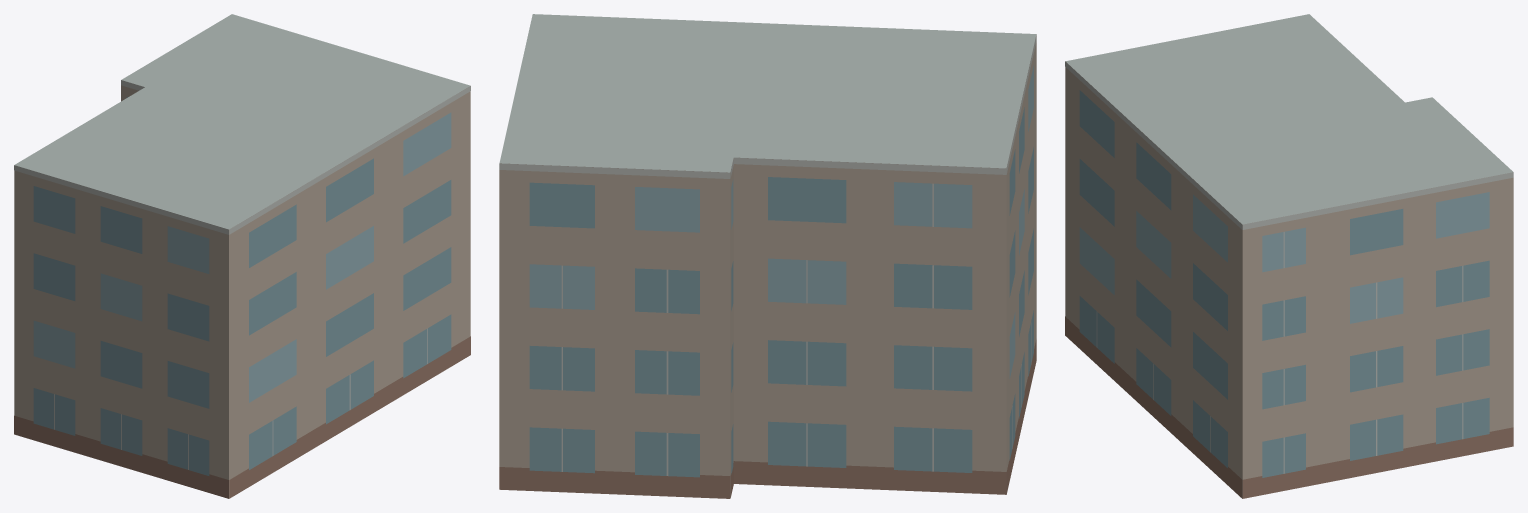
The model's file is residential-628e0a71-69cc-4b9c-8d45-5c92925a2f30.glb.
3 views of the same model, side by side, from view 1: azimuth 30°, elevation 25°; view 2: azimuth 150°, elevation 25°; view 3: azimuth 270°, elevation 25° (orthographic). The views are drawn at different scales.
Visible parts, largest first — view 1: residential-628e0a71-69cc-4b9c-8d45-5c92925a2f30.tmp; view 2: residential-628e0a71-69cc-4b9c-8d45-5c92925a2f30.tmp; view 3: residential-628e0a71-69cc-4b9c-8d45-5c92925a2f30.tmp.
Boxes of the visible parts, x1=… form: residential-628e0a71-69cc-4b9c-8d45-5c92925a2f30.tmp: x1=14, y1=14, x2=470, y2=498; residential-628e0a71-69cc-4b9c-8d45-5c92925a2f30.tmp: x1=499, y1=14, x2=1036, y2=498; residential-628e0a71-69cc-4b9c-8d45-5c92925a2f30.tmp: x1=1065, y1=14, x2=1513, y2=498.
Bounding box in the file's own units: 20.1 × 12.2 × 18.09.
